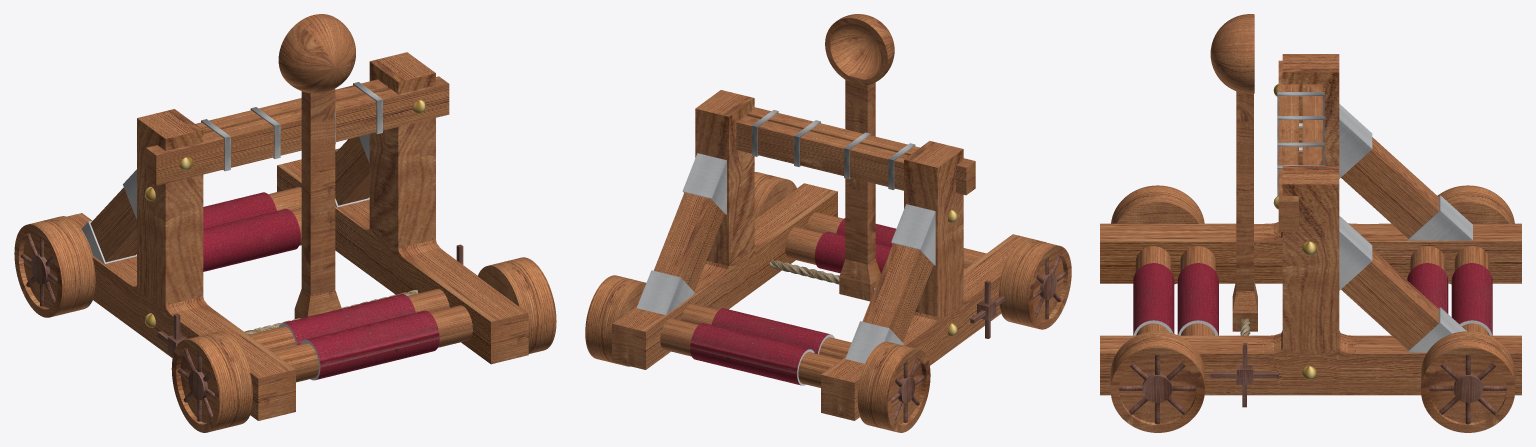
Rendered from catapult.fbx.
3 renders of one model, left to right at view 1: azimuth 30°, elevation 25°; view 2: azimuth 150°, elevation 25°; view 3: azimuth 270°, elevation 25°, orthographic. The views are drawn at different scales.
Parts seen in each view (by area): view 1: Cube, Cylinder.004, Cylinder, Cube.002, Cube.003, Sphere, Cube.006, Cube.001, Cylinder.003, Cylinder.002, Cube.007, Cube.008; view 2: Cube, Cylinder, Cylinder.004, Cube.006, Cube.003, Cube.001, Sphere, Cube.007, Cube.008, Cube.002, Cylinder.003, Cylinder.002 (+2 smaller); view 3: Cube, Cylinder, Cylinder.004, Cube.006, Cube.003, Cube.007, Sphere, Cube.002, Cube.008, Cylinder.003, Cube.001, Cylinder.002 (+1 smaller).
Boxes of the visible parts, x1,y1,x2,y2 form: Cube: [67, 52, 528, 420]; Cylinder.004: [203, 187, 472, 382]; Cylinder: [14, 148, 556, 432]; Cube.002: [146, 76, 449, 185]; Cube.003: [294, 89, 341, 318]; Sphere: [278, 14, 355, 93]; Cube.006: [90, 136, 369, 262]; Cube.001: [195, 79, 388, 133]; Cylinder.003: [20, 234, 215, 421]; Cylinder.002: [31, 254, 207, 400]; Cube.007: [123, 134, 369, 219]; Cube.008: [81, 197, 369, 263]; Cube: [612, 90, 1046, 420]; Cylinder: [585, 172, 1071, 432]; Cylinder.004: [660, 212, 986, 387]; Cube.006: [654, 192, 933, 342]; Cube.003: [839, 72, 880, 301]; Cube.001: [736, 115, 908, 190]; Sphere: [825, 14, 894, 85]; Cube.007: [682, 153, 935, 265]; Cube.008: [636, 270, 904, 363]; Cube.002: [747, 107, 975, 195]; Cylinder.003: [891, 254, 1065, 422]; Cylinder.002: [898, 272, 1056, 403]; Cube: [1100, 54, 1521, 395]; Cylinder: [1110, 185, 1515, 432]; Cylinder.004: [1133, 246, 1492, 335]; Cube.006: [1341, 137, 1438, 350]; Cube.003: [1232, 91, 1257, 331]; Cube.007: [1339, 104, 1372, 290]; Sphere: [1210, 14, 1254, 93]; Cube.002: [1278, 60, 1298, 231]; Cube.008: [1407, 195, 1472, 352]; Cylinder.003: [1119, 355, 1506, 424]; Cube.001: [1302, 84, 1322, 165]; Cylinder.002: [1142, 374, 1483, 402].
Bounding box in the file's own units: 1790 × 1717 × 1969.
Materials: 10 (10 with a texture image).
